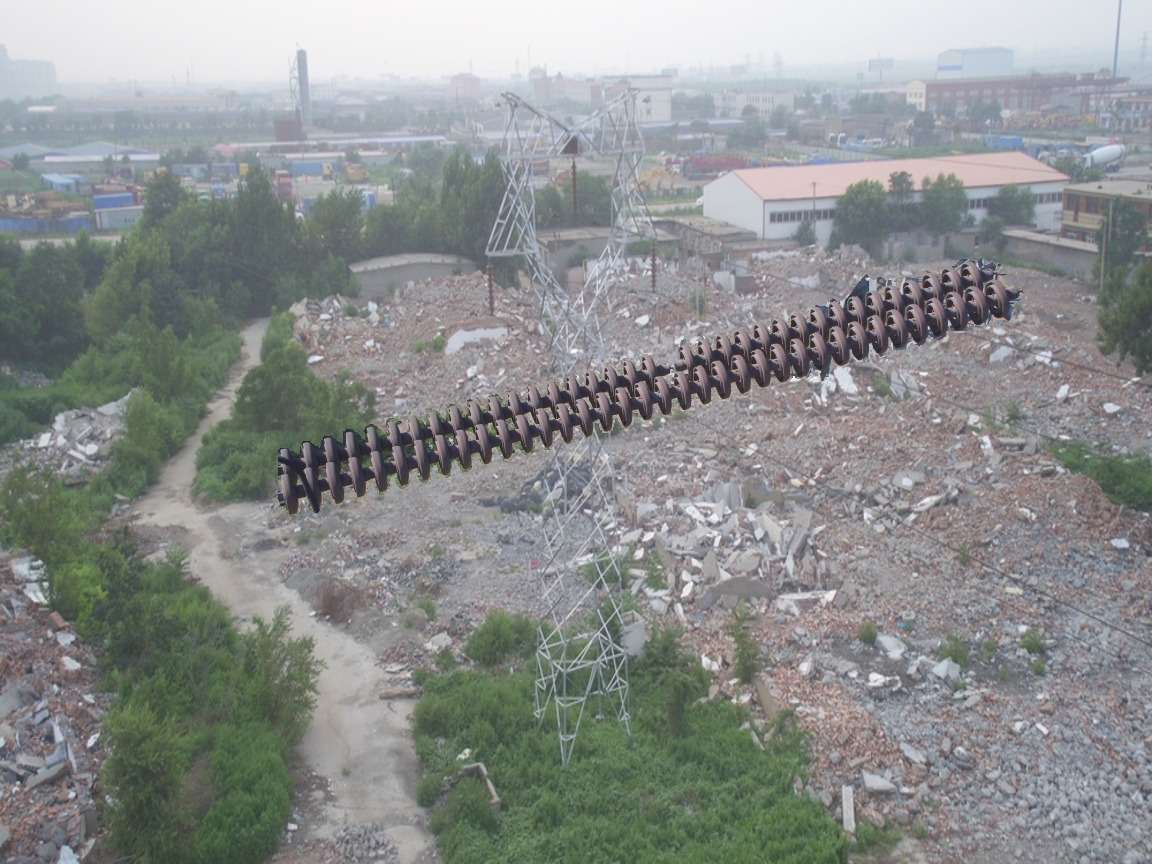defect: (638, 341, 696, 383)
